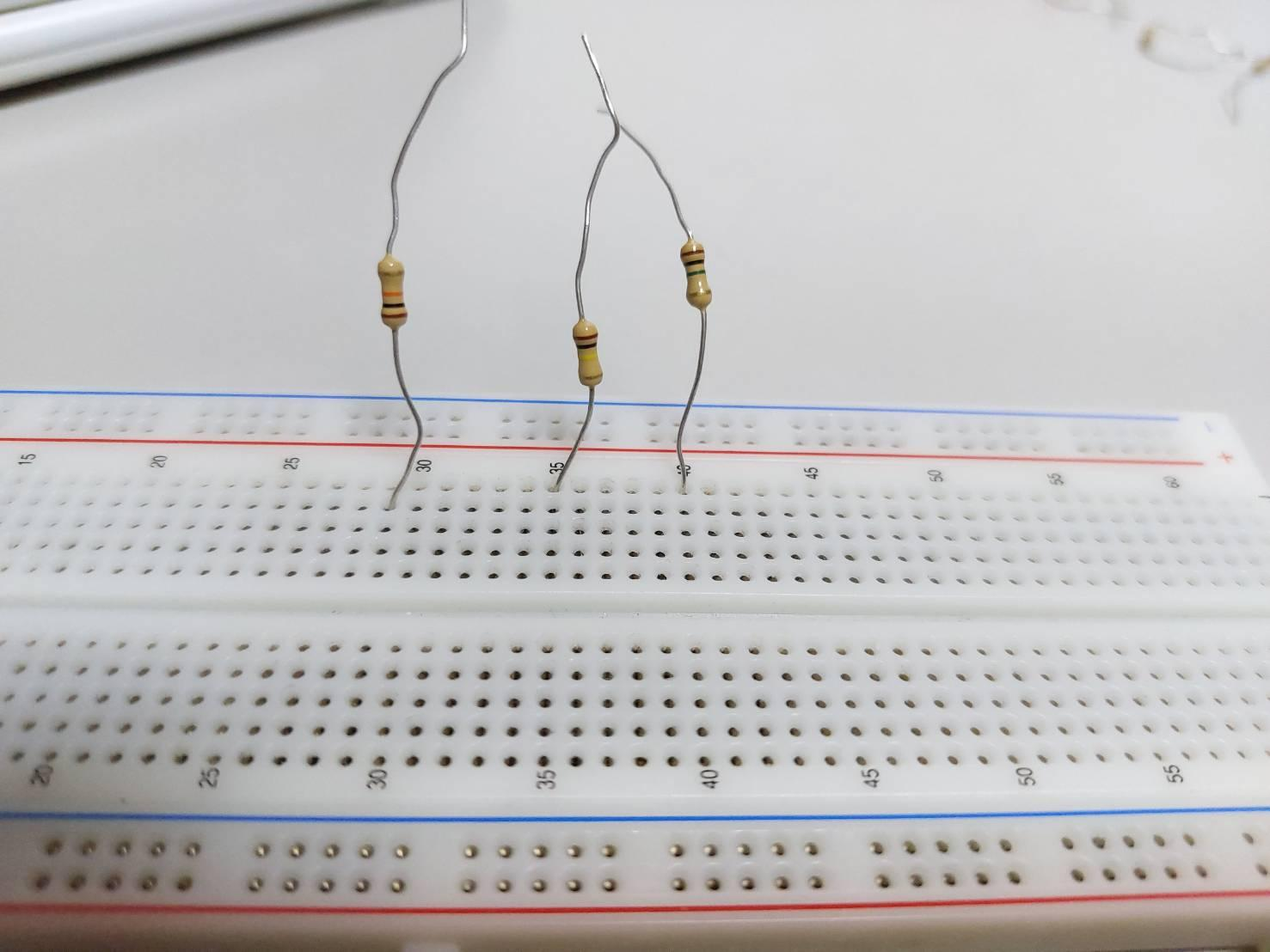resistor: (679, 238, 715, 309), (379, 257, 408, 330), (575, 319, 603, 386)
